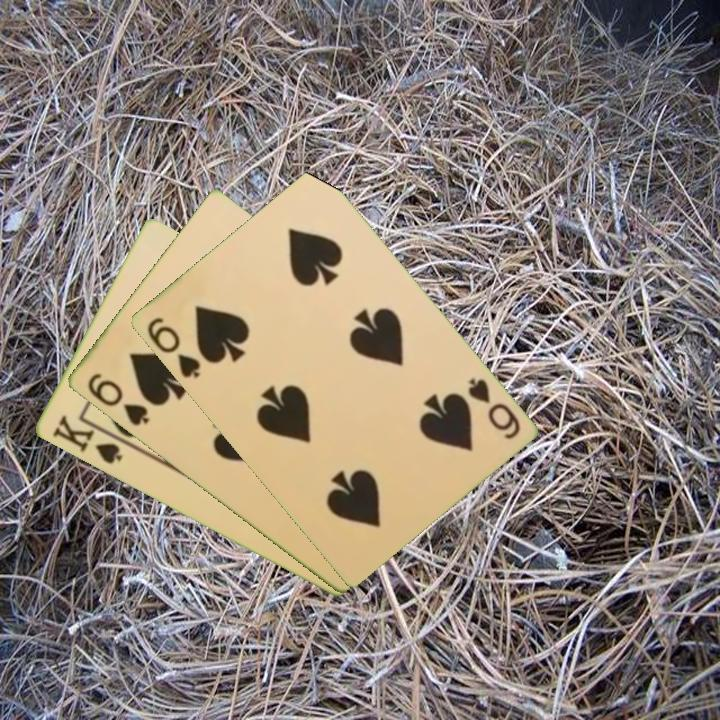6s: (83, 369, 152, 430), (142, 313, 203, 381), (463, 374, 523, 442)
Ks: (48, 412, 130, 467)
